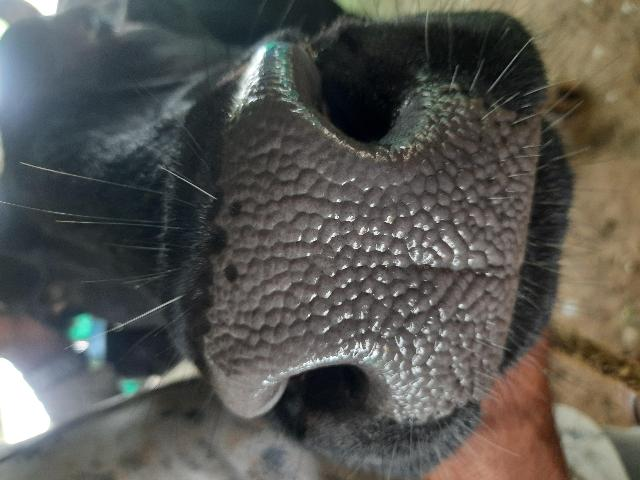Muzzle: (228, 78, 514, 424)
